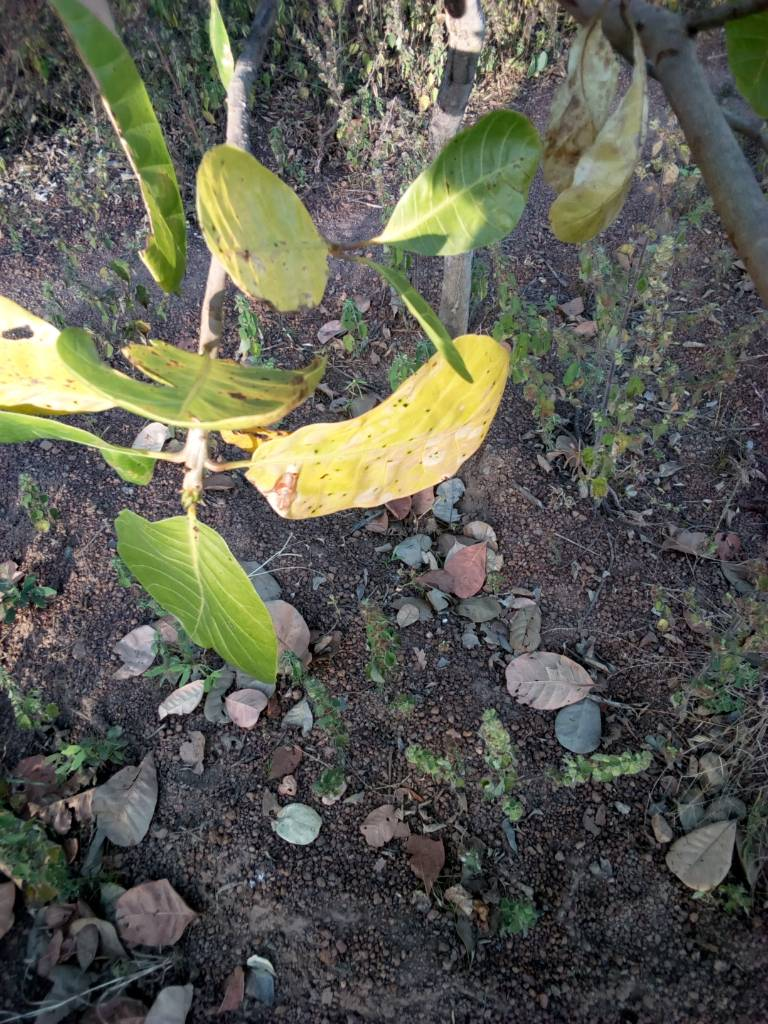Bactériose: (233, 328, 510, 517), (199, 153, 365, 310), (57, 339, 335, 428), (543, 11, 618, 242)
